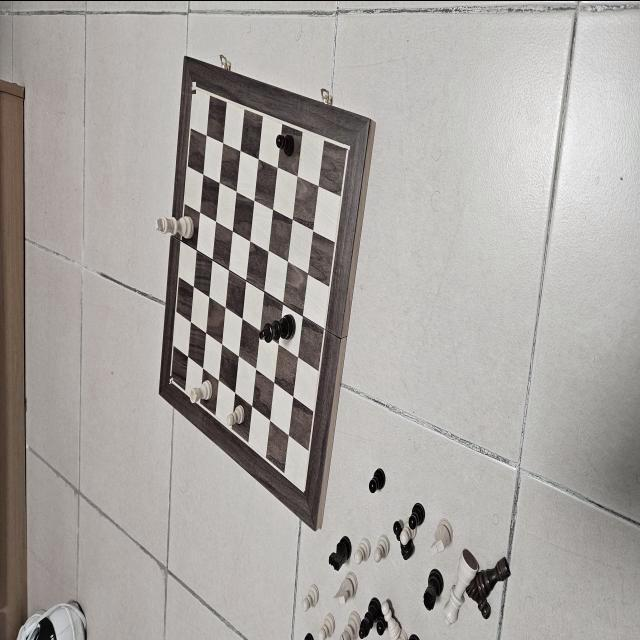chess-table-corners: (343, 141, 352, 159), (302, 484, 306, 497), (192, 81, 196, 93), (168, 375, 172, 383)
